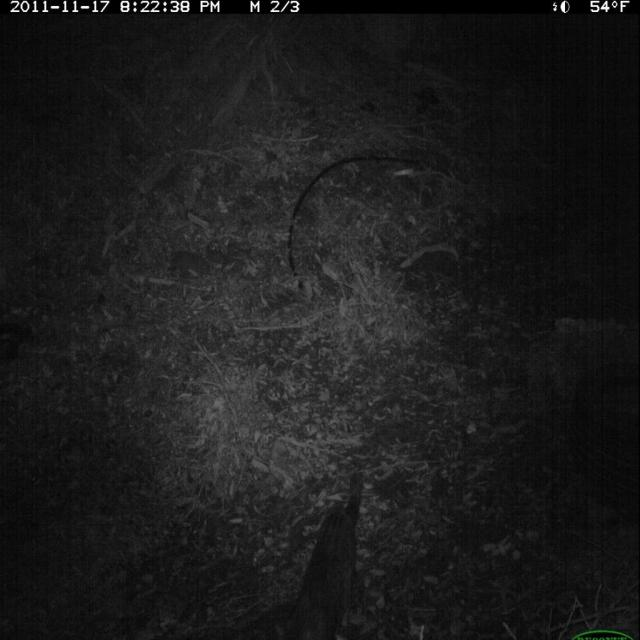cat: (286, 468, 371, 640)
